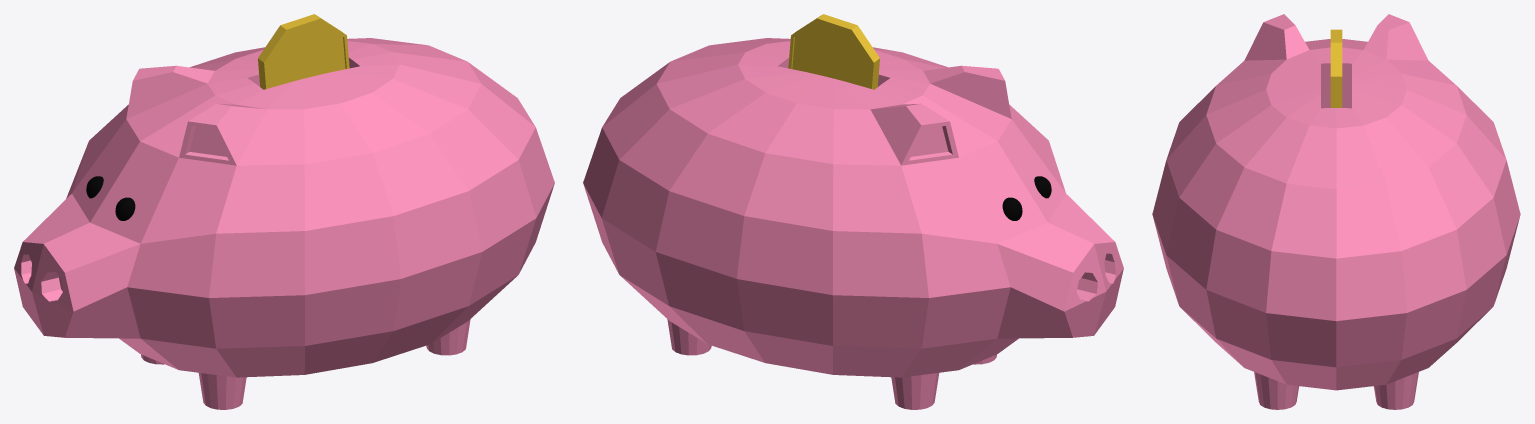
File: Piggy Bank.fbx
The picture shows the model from 3 angles, left to right: view 1: azimuth 30°, elevation 25°; view 2: azimuth 150°, elevation 25°; view 3: azimuth 270°, elevation 25°; orthographic projection. The views are drawn at different scales.
Parts seen in each view (by area): view 1: Pig; view 2: Pig; view 3: Pig.
Boxes of the visible parts, box(x1,y1,x2,y2) form: Pig: box(14, 14, 554, 409); Pig: box(583, 14, 1123, 409); Pig: box(1152, 14, 1520, 409).
Size of the model in its own units: 31.32 by 19.73 by 20.96.
